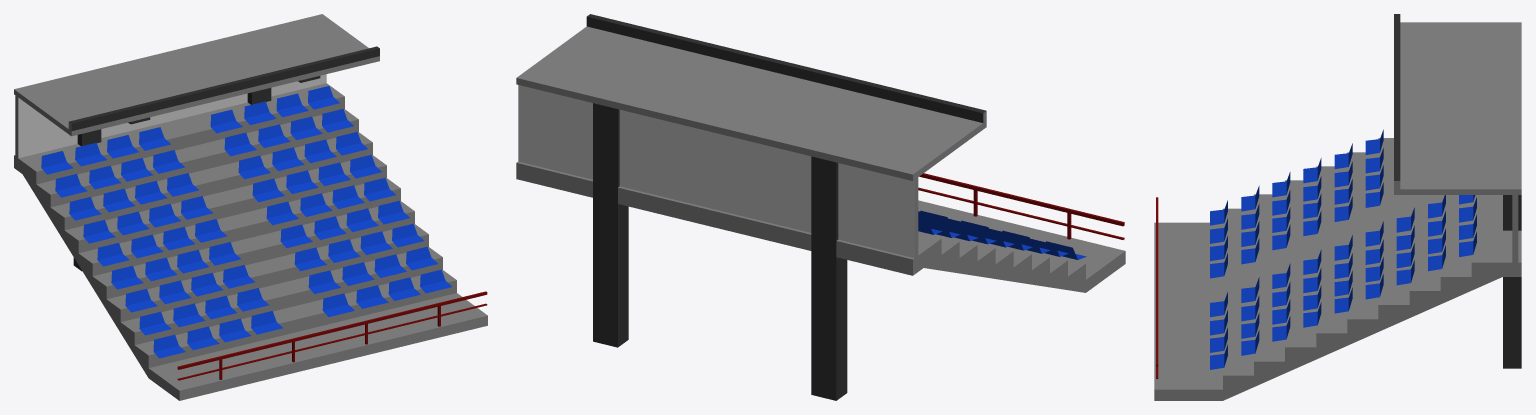
File: ETC0510025.fbx
3 renders of one model, left to right at view 1: azimuth 30°, elevation 25°; view 2: azimuth 150°, elevation 25°; view 3: azimuth 270°, elevation 25°, orthographic. The views are drawn at different scales.
Visible parts, largest first — view 1: smETC0510025; view 2: smETC0510025; view 3: smETC0510025.
Part boxes in pixels (<box>): smETC0510025: <box>14,14,487,400</box>; smETC0510025: <box>516,14,1125,400</box>; smETC0510025: <box>1154,14,1521,400</box>.
Bounding box in the file's own units: 1524 × 936 × 1416.
Materials: 1 (1 with a texture image).
